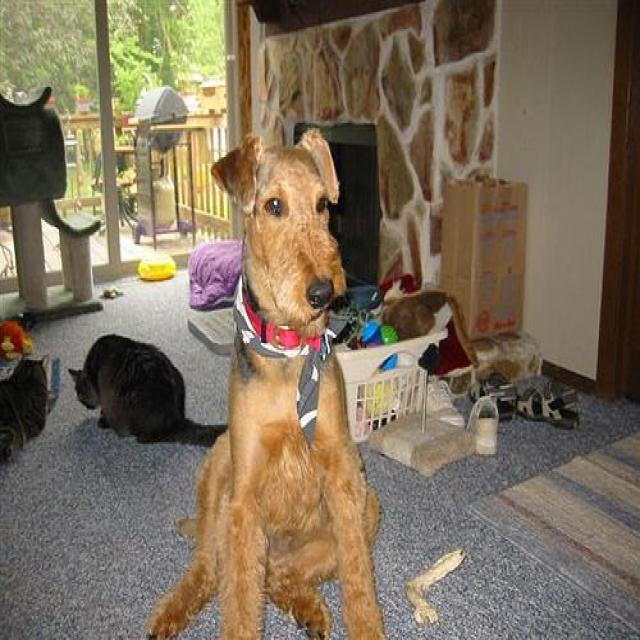airedale: (144, 121, 386, 633)
